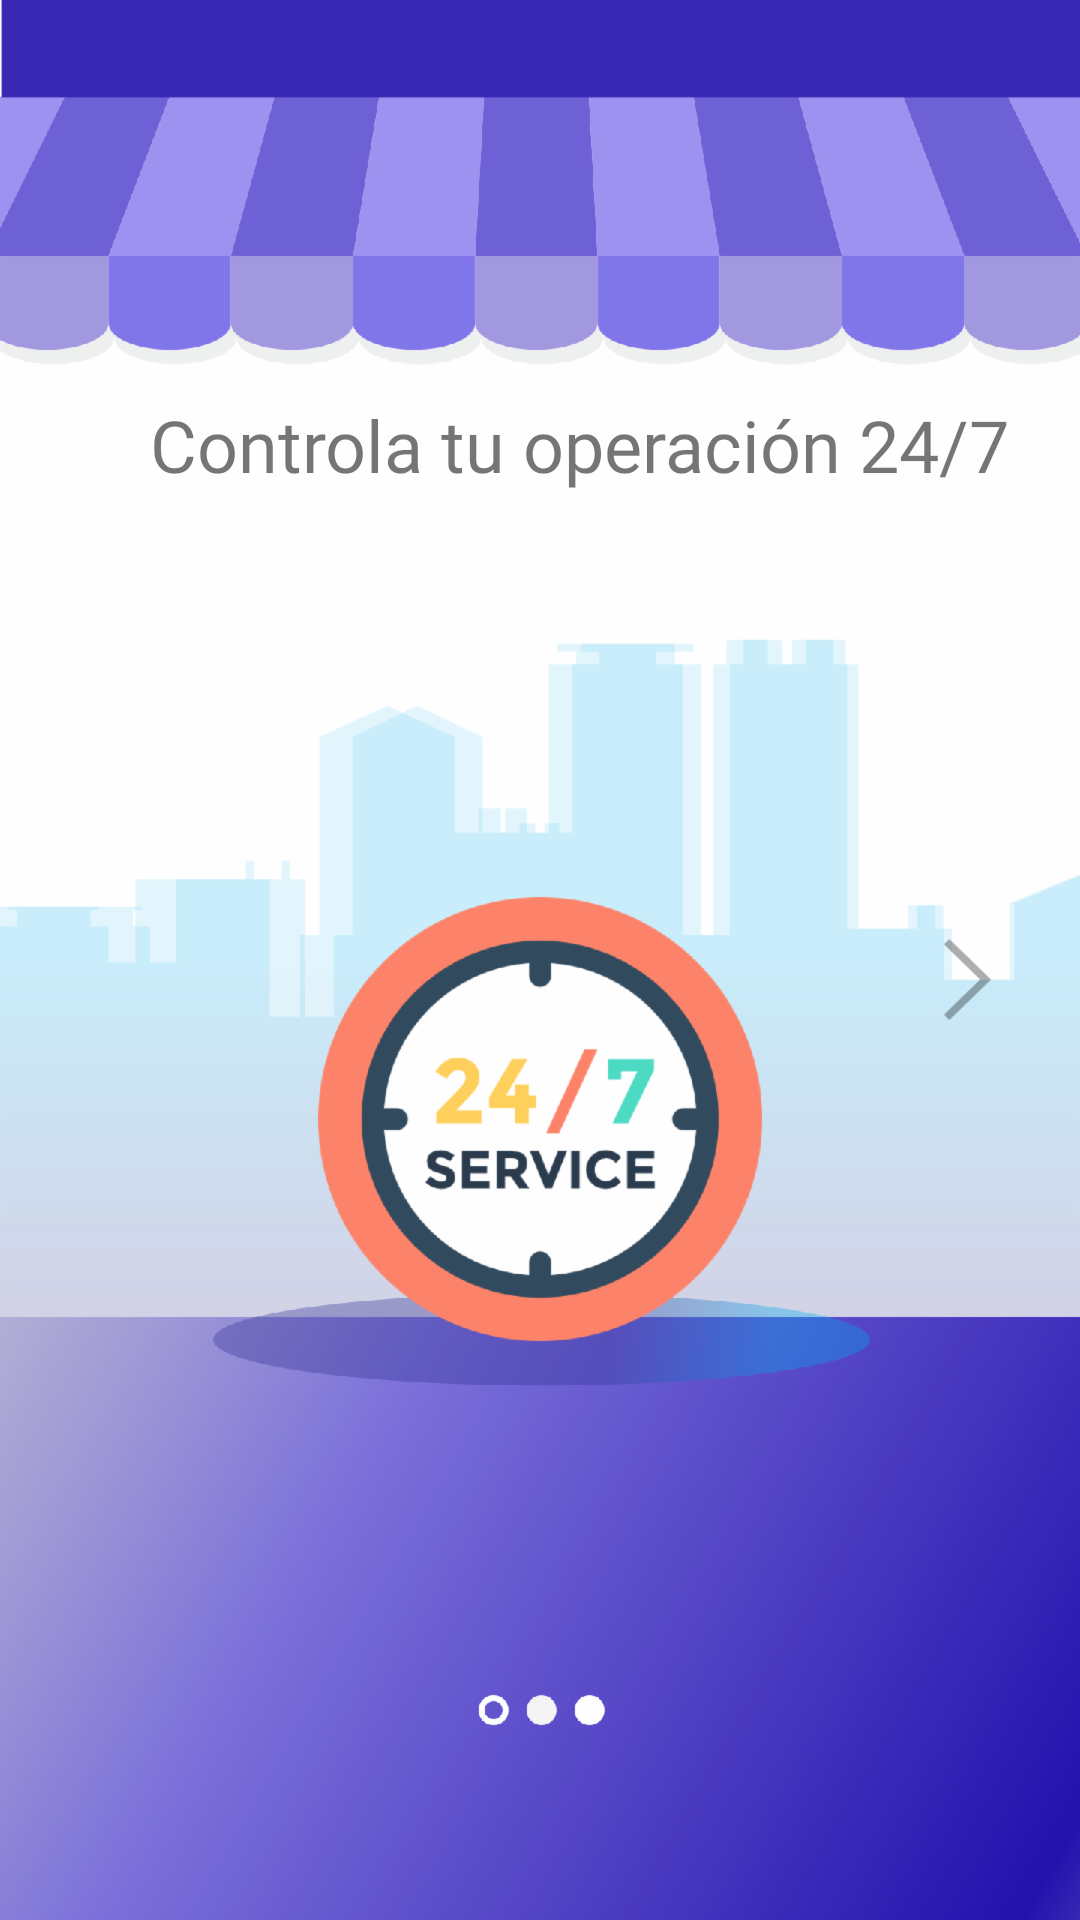

Screen size 1080w x 1920h. Icon name, then its box in pixels as (x1, y1, x2, y2):
nextpage: (944, 939, 1008, 1020)
